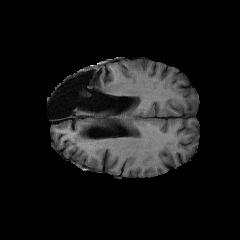glioma: (54, 66, 121, 102)
